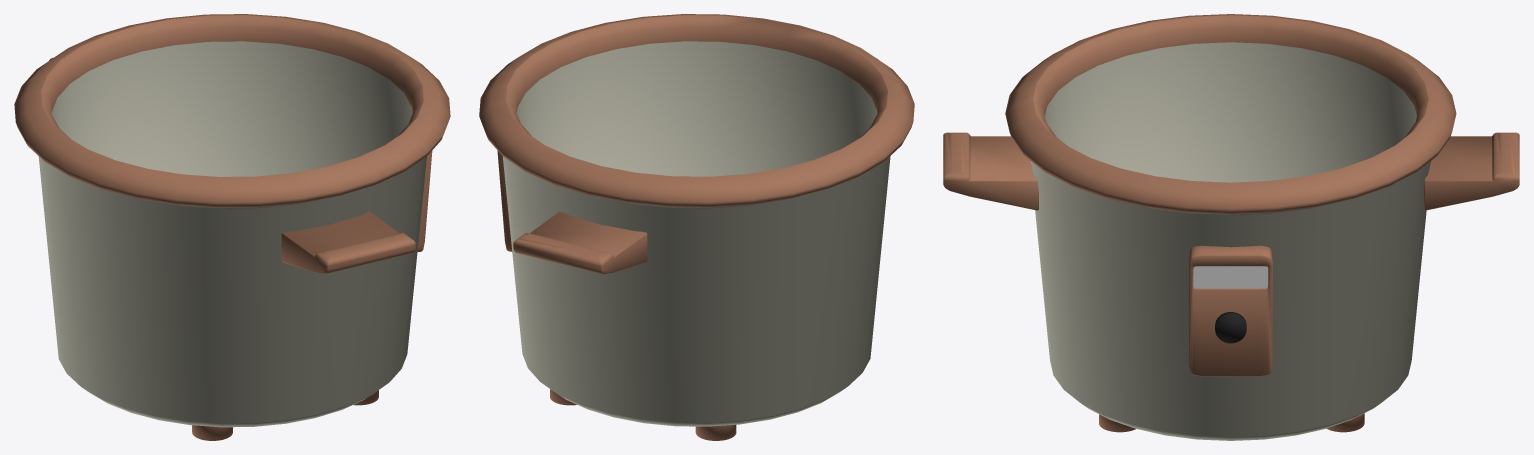
The model's file is cookerLidlessObj.fbx.
The picture shows the model from 3 angles, left to right: view 1: azimuth 30°, elevation 25°; view 2: azimuth 150°, elevation 25°; view 3: azimuth 270°, elevation 25°; orthographic projection. The views are drawn at different scales.
Visible parts, largest first — view 1: cookerLidlessObj; view 2: cookerLidlessObj; view 3: cookerLidlessObj.
Boxes of the visible parts, x1,y1,x2,y2 form: cookerLidlessObj: [14, 14, 450, 440]; cookerLidlessObj: [479, 14, 914, 440]; cookerLidlessObj: [943, 14, 1519, 440].
Size of the model in its own units: 361 by 254 by 462.
